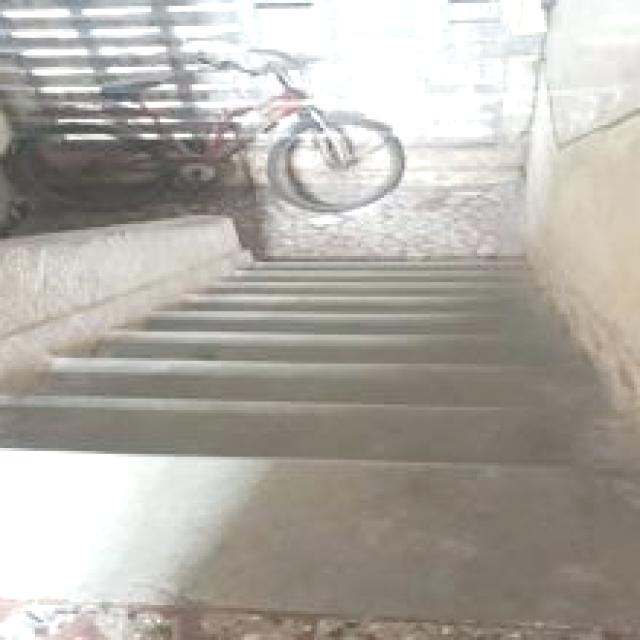downstair: (77, 298, 493, 542)
